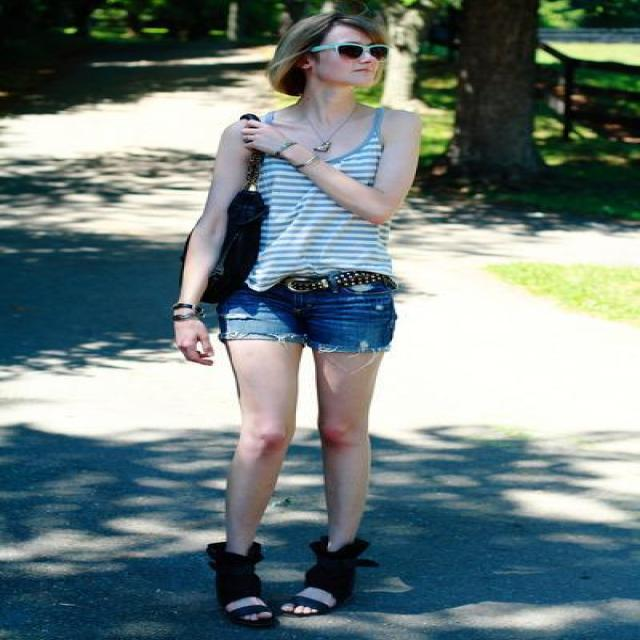bag: (200, 192, 290, 311)
shirt: (237, 124, 390, 290)
shoe: (206, 535, 364, 639)
shorts: (224, 271, 402, 352)
sunglass: (338, 28, 387, 58)
